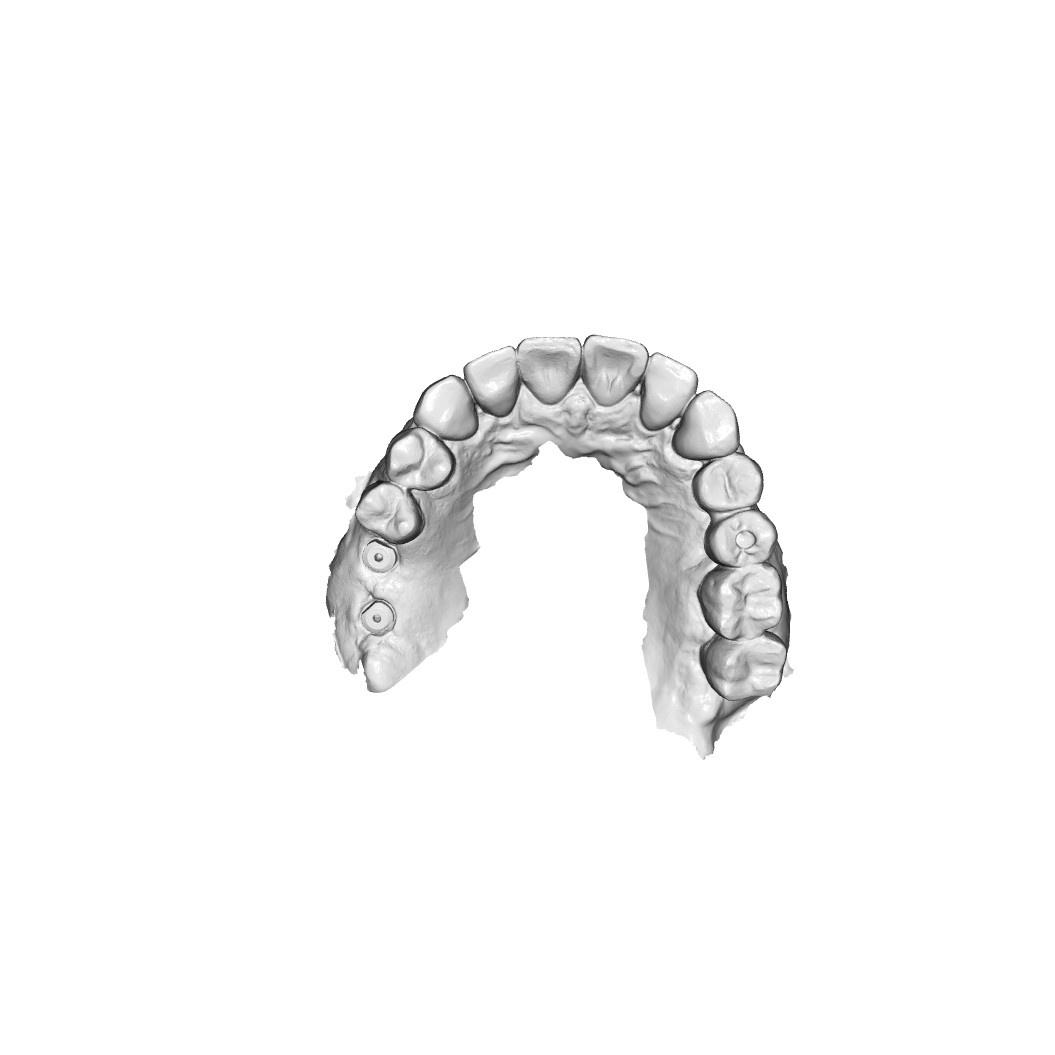canine: (671, 389, 742, 461), (410, 372, 478, 442)
implant: (359, 536, 403, 576), (358, 596, 398, 637)
incisor: (518, 336, 588, 409), (638, 352, 698, 434), (579, 329, 641, 401), (461, 343, 515, 419)
molar: (695, 565, 792, 643), (696, 633, 791, 704)
premolar: (382, 425, 455, 492), (691, 449, 767, 512), (359, 482, 426, 548), (702, 511, 779, 566)
